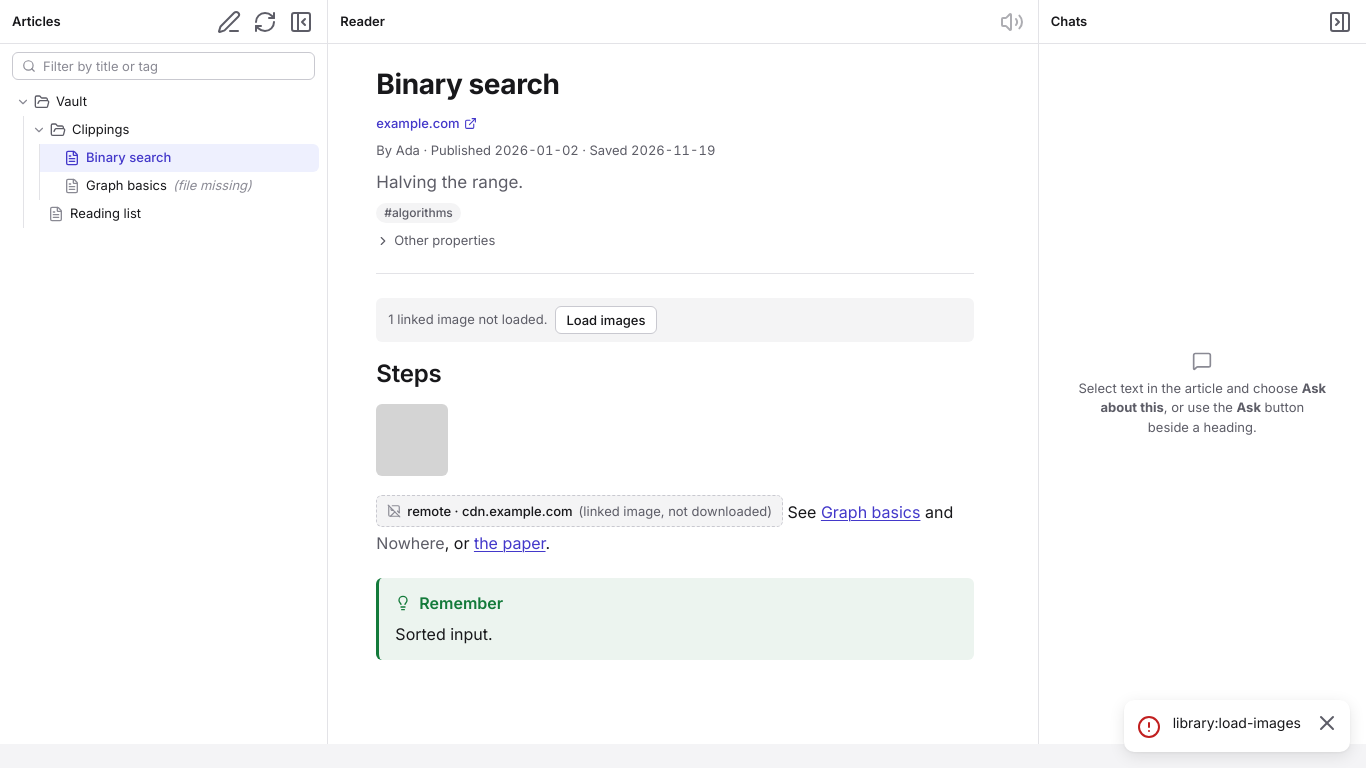
Test: LibraryPage › shows a refused link as a toast
This screenshot has width=1366, height=768.
Click the link "the paper".
click(510, 544)  # box [474,534,546,554]
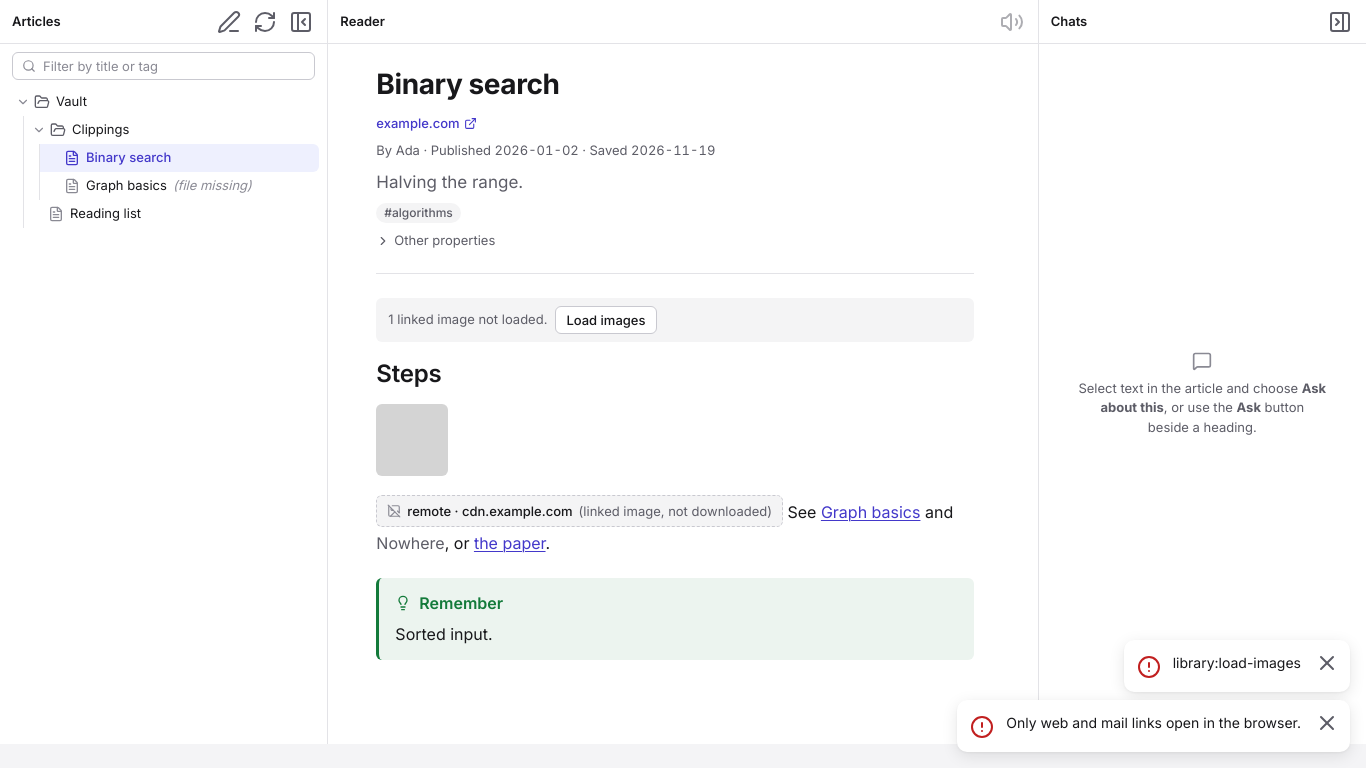
Check: the text "Only web and mail links open in the browser." is shown, box [1006,713,1301,733]
